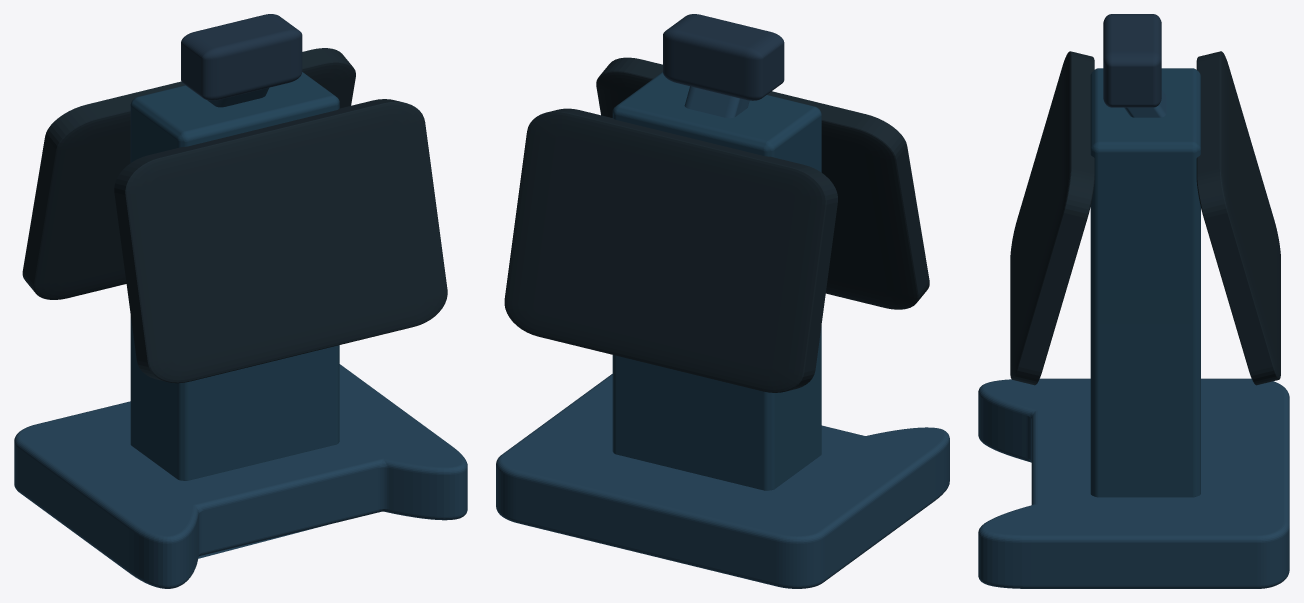
File: Totem_3D_Pintado.glb
3 views of the same model, side by side, from view 1: azimuth 30°, elevation 25°; view 2: azimuth 150°, elevation 25°; view 3: azimuth 270°, elevation 25° (orthographic).
Parts seen in each view (by area): view 1: Cube.004, Cube.001, Cube.003, Cube.002; view 2: Cube.004, Cube.001, Cube.003, Cube.002, Cube.005; view 3: Cube.001, Cube.003, Cube.004, Cube.002, Cube.005.
Boxes of the visible parts, bbox=[...] form: Cube.004: bbox=[22, 48, 447, 383]; Cube.001: bbox=[14, 364, 467, 588]; Cube.003: bbox=[130, 72, 339, 480]; Cube.002: bbox=[181, 14, 302, 100]; Cube.004: bbox=[504, 57, 929, 392]; Cube.001: bbox=[496, 374, 949, 588]; Cube.003: bbox=[612, 72, 821, 490]; Cube.002: bbox=[663, 14, 784, 100]; Cube.005: bbox=[684, 86, 749, 118]; Cube.001: bbox=[978, 378, 1289, 588]; Cube.003: bbox=[1090, 68, 1200, 497]; Cube.004: bbox=[1010, 51, 1280, 385]; Cube.002: bbox=[1103, 14, 1161, 107]; Cube.005: bbox=[1124, 90, 1166, 117].
Bounding box in the file's own units: 13 × 17.93 × 10.63.
Materials: 5 (3 with a texture image).
